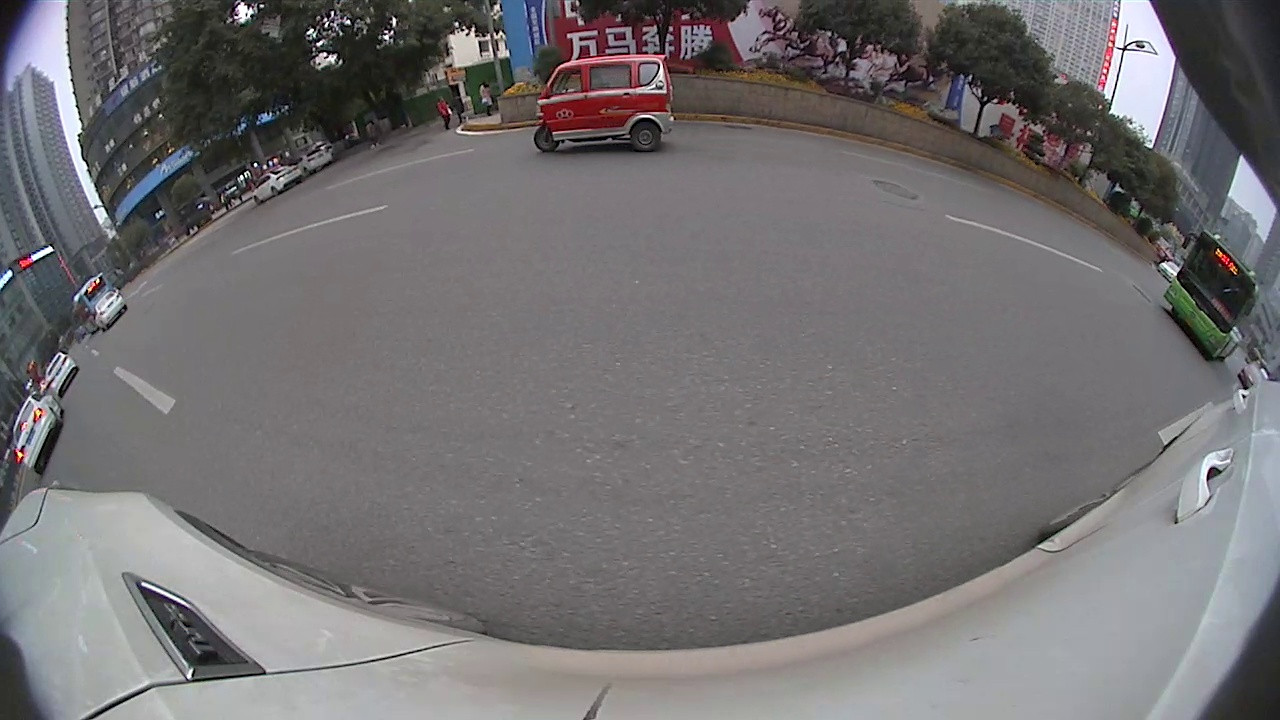bus: (1163, 231, 1259, 364), (65, 275, 110, 332)
car: (13, 391, 64, 475), (248, 164, 302, 204), (40, 350, 80, 391), (90, 290, 127, 330), (297, 142, 337, 169), (1237, 357, 1267, 391)
front: (530, 128, 558, 154)
person: (439, 94, 452, 130), (480, 82, 493, 114)
rear: (627, 121, 664, 155)
rider: (531, 56, 676, 152)
